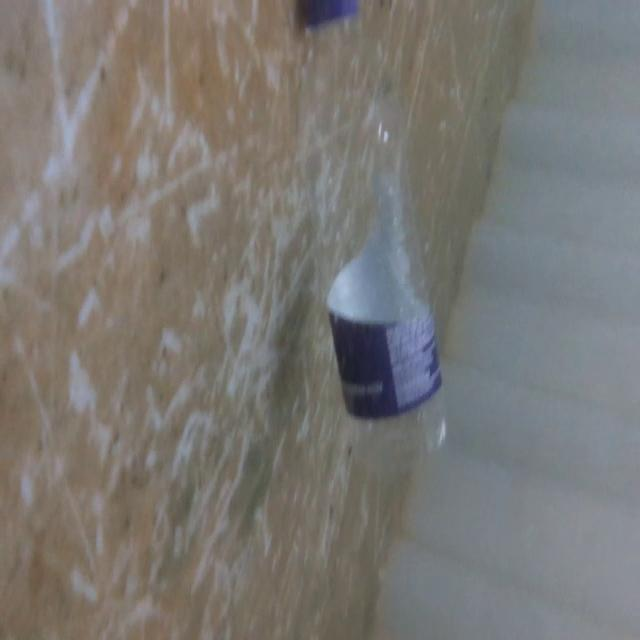plastic bottle: (297, 0, 462, 475)
